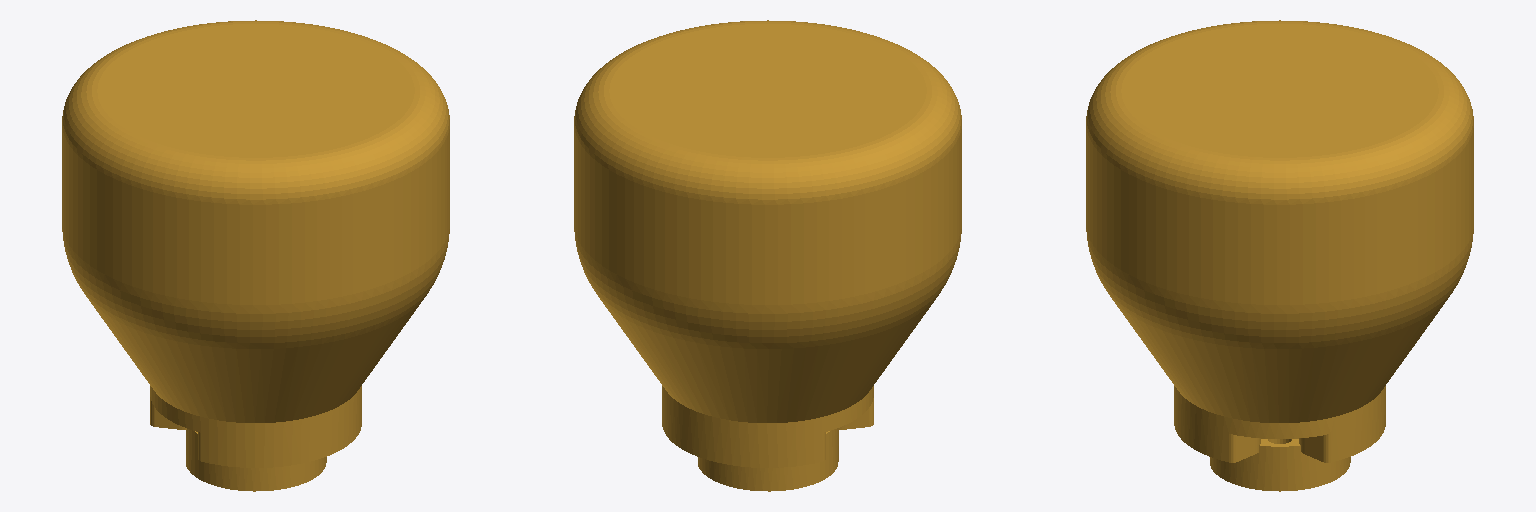
robot.urdf — cb_a8k_doorknob_1_55mm_p40:
<?xml version="1.0"?>
<!-- A8 ContactBench doorknob doorknob_1_55mm + 40 deg pinion: official grip hull (z >= 35 mm), print-model mass. Generated by FoundationTouch tools/contactbench/doorknob_tasks.py -->
<robot name="cb_a8k_doorknob_1_55mm_p40">
  <material name="c"><color rgba="0.80 0.62 0.25 1.0"/></material>
  <link name="object">
    <visual><origin xyz="0 0 0" rpy="0 0 0"/><geometry><mesh filename="a8k_doorknob_1_55mm_p40.obj" scale="1 1 1"/></geometry><material name="c"/></visual>
    <collision><origin xyz="0 0 0" rpy="0 0 0"/><geometry><mesh filename="coll_hull.obj" scale="1 1 1"/></geometry></collision>
    <inertial><mass value="0.034770"/><origin xyz="-0.000384 -0.000140 -0.002834" rpy="0 0 0"/><inertia ixx="1.485854e-05" ixy="-6.655295e-08" ixz="-4.838291e-07" iyy="1.498507e-05" iyz="-1.757481e-07" izz="1.010655e-03"/></inertial>
  </link>
</robot>

--- Facts derived from the render (not from the file) ---
3 views of the same robot in one strip: view 1: azimuth 30°, elevation 25°; view 2: azimuth 150°, elevation 25°; view 3: azimuth 270°, elevation 25° (orthographic).
Robot: cb_a8k_doorknob_1_55mm_p40 — 1 links, 0 joints (none); root link object; default pose: all joints at 0.
Links seen in each view (by area): view 1: object; view 2: object; view 3: object.
Boxes of the visible links, x1,y1,x2,y2 form: object: (62,20,449,491); object: (574,20,961,491); object: (1086,20,1473,491).
Size in the robot's own frame: 0.055 by 0.055 by 0.058 metres.
1 mesh visuals loaded from 1 distinct referenced files (1 OBJ).
